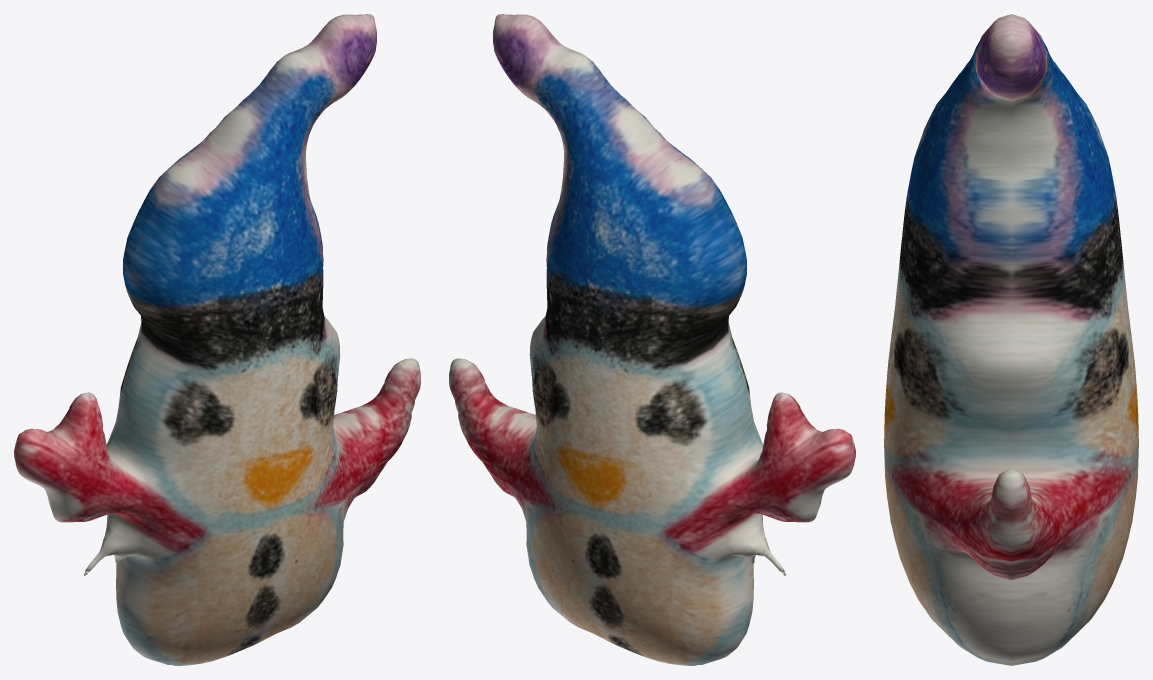
3 renders of one model, left to right at view 1: azimuth 30°, elevation 25°; view 2: azimuth 150°, elevation 25°; view 3: azimuth 270°, elevation 25°, orthographic. The views are drawn at different scales.
Size of the model in its own units: 2.81 by 4.02 by 1.32.
1 material, 1 textured.
